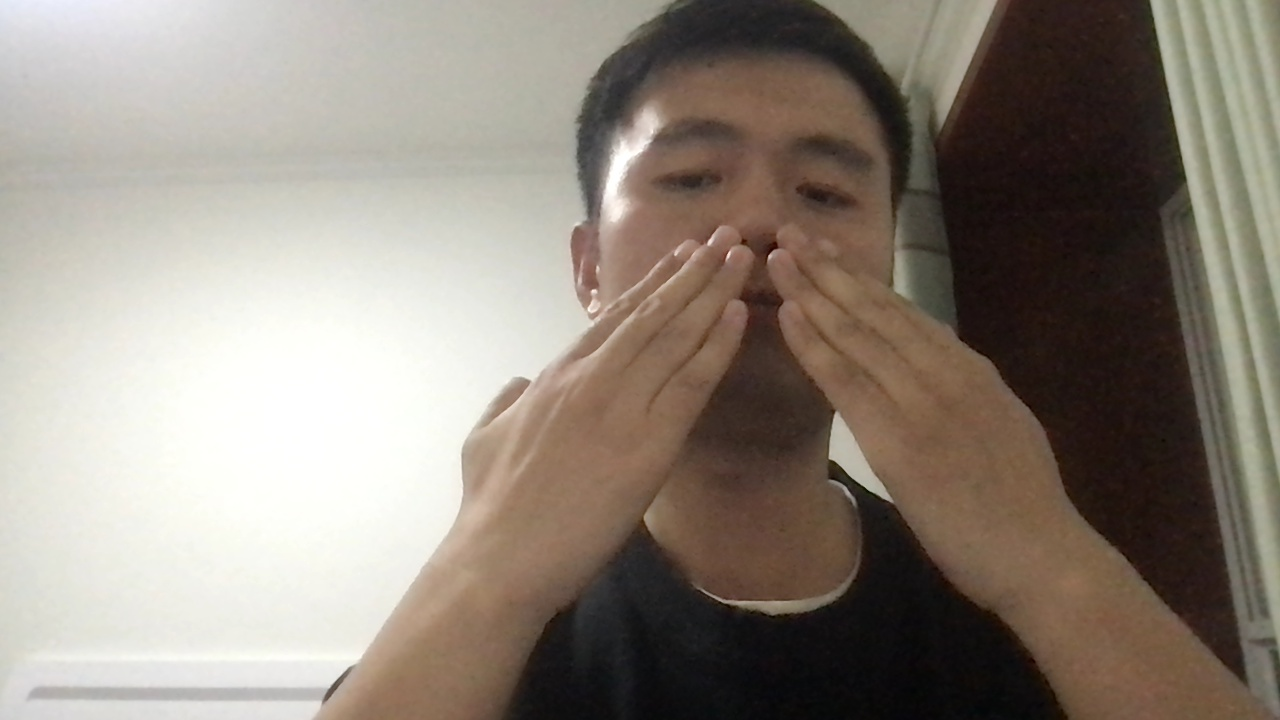thanks: (402, 219, 1131, 620)
